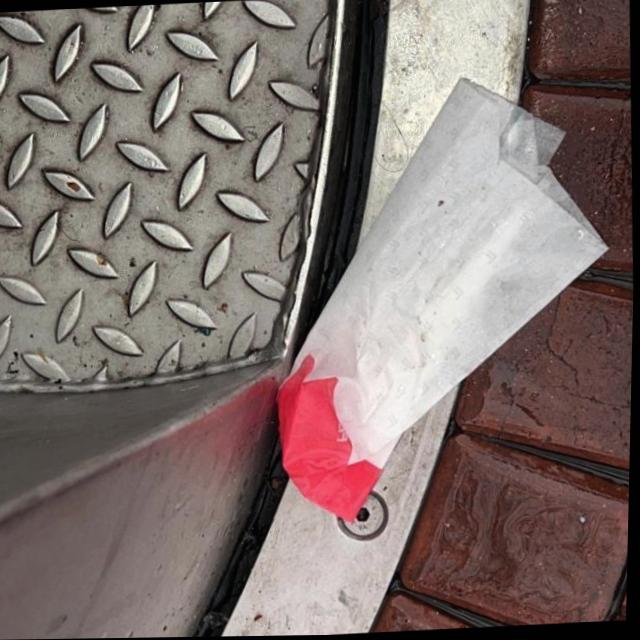Paper: (262, 68, 623, 530)
